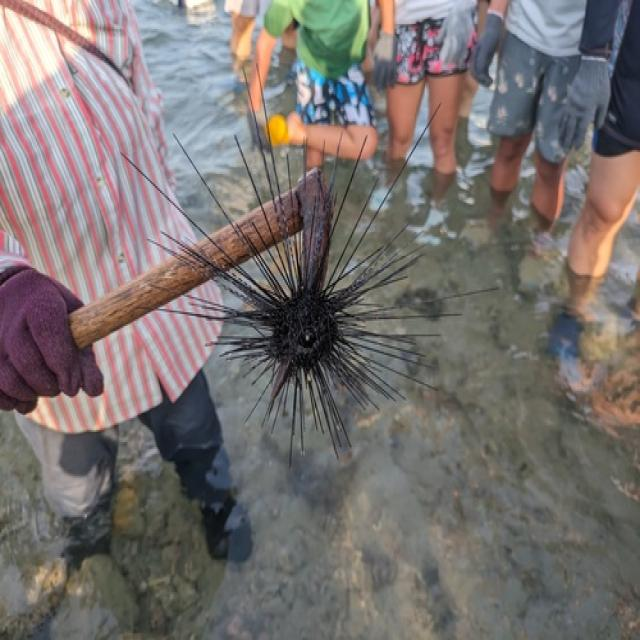Urchin: (119, 63, 502, 471)
